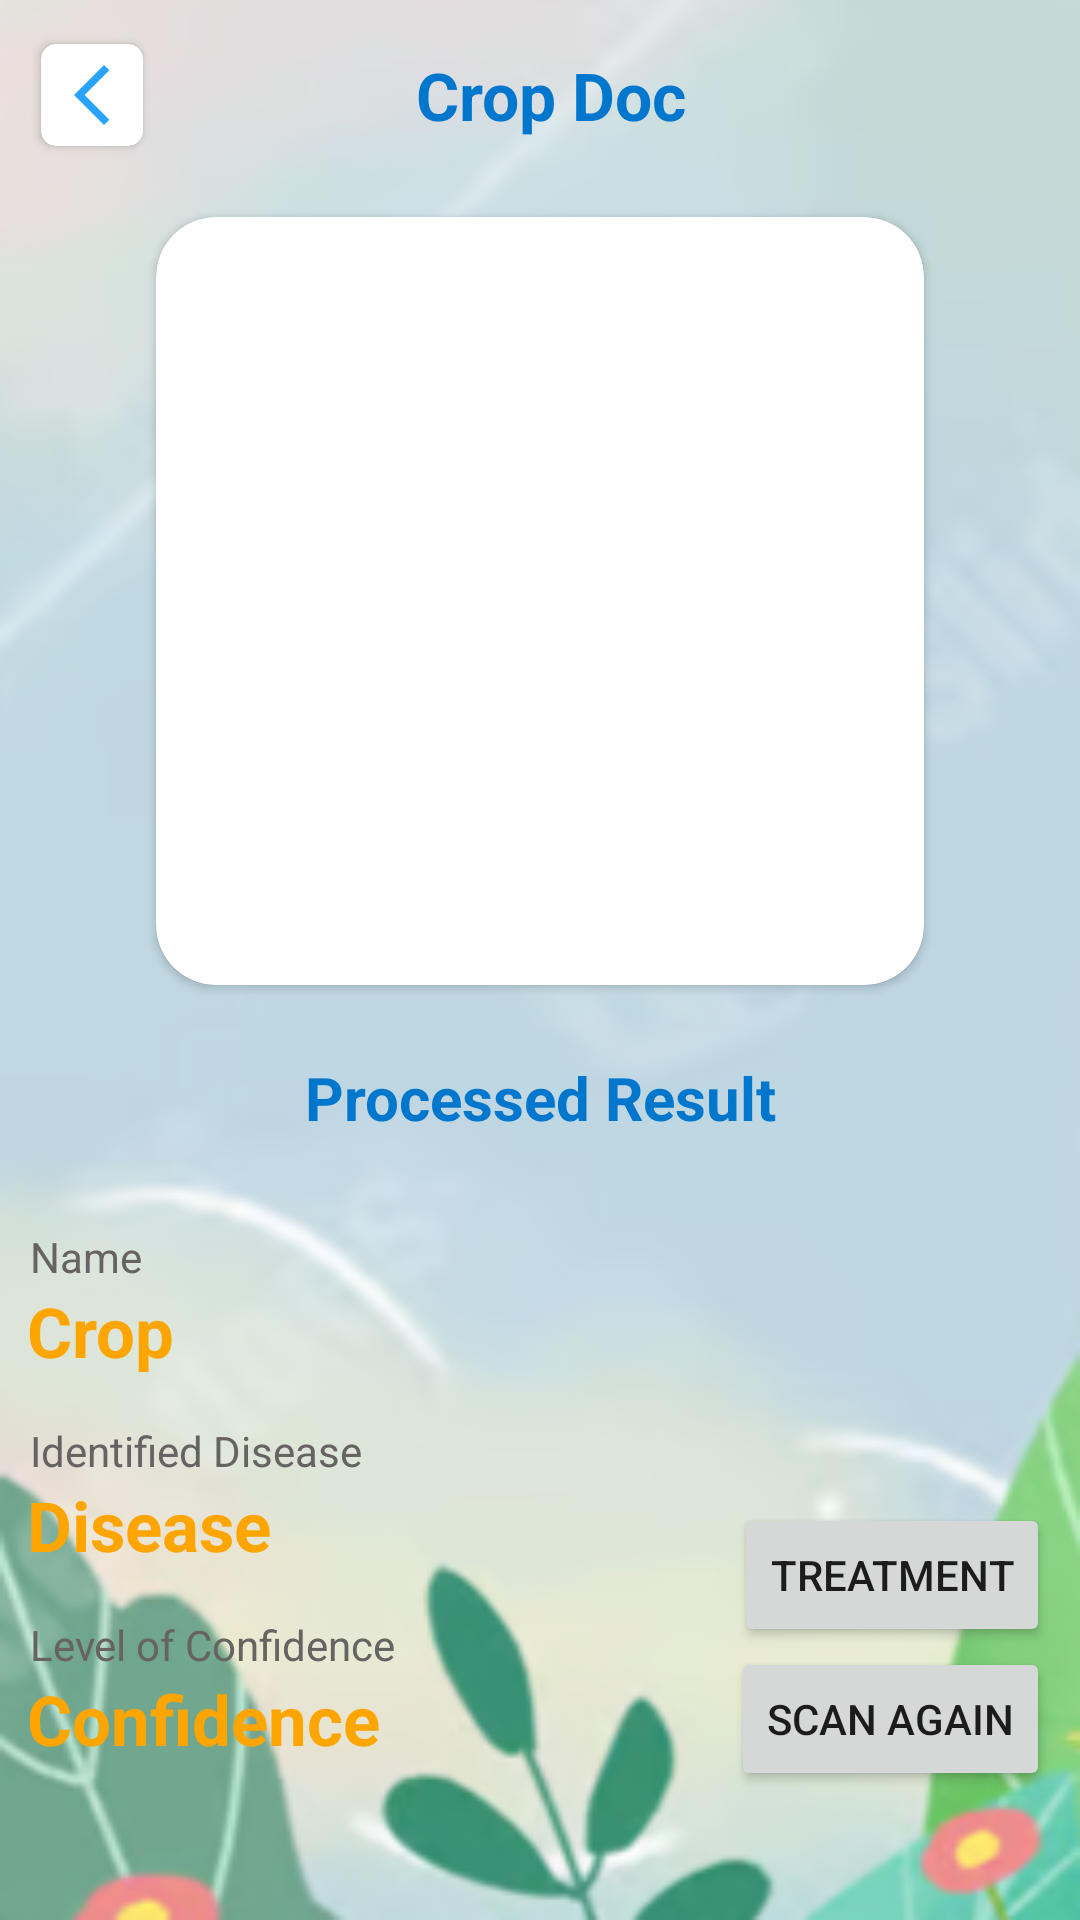

Icons on this 1080 x 1920 Android screen, each with the point to tap as [x,y]:
arrow back: [91,95]
